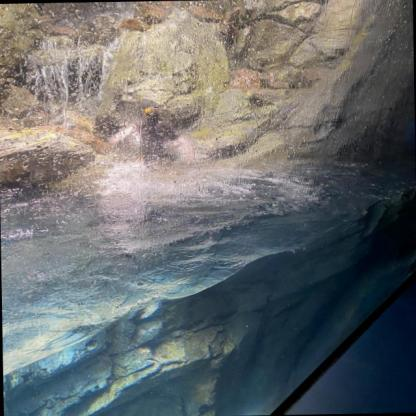puffin: (140, 103, 180, 154)
